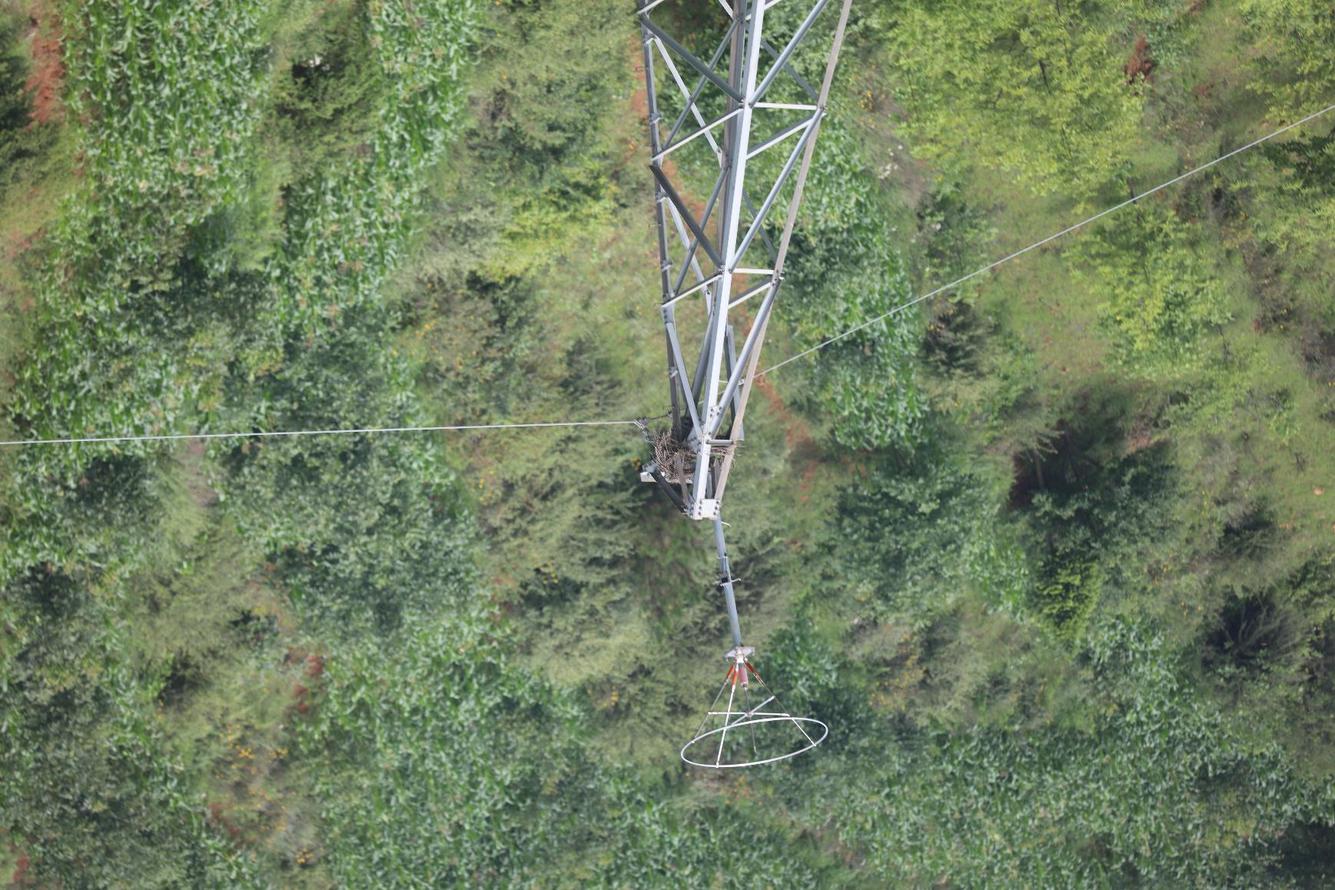nest: (649, 428, 697, 482)
